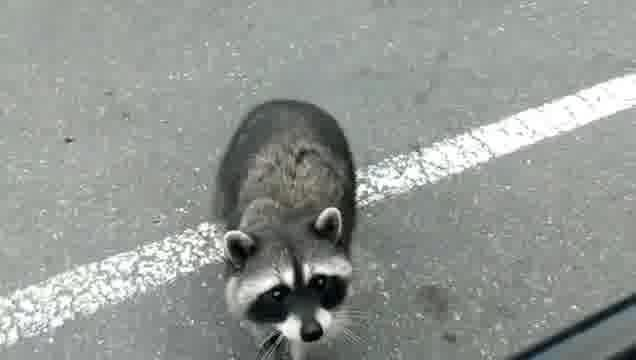raccoon: (207, 97, 372, 360)
